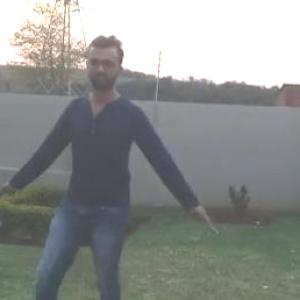land: (8, 60, 198, 299)
